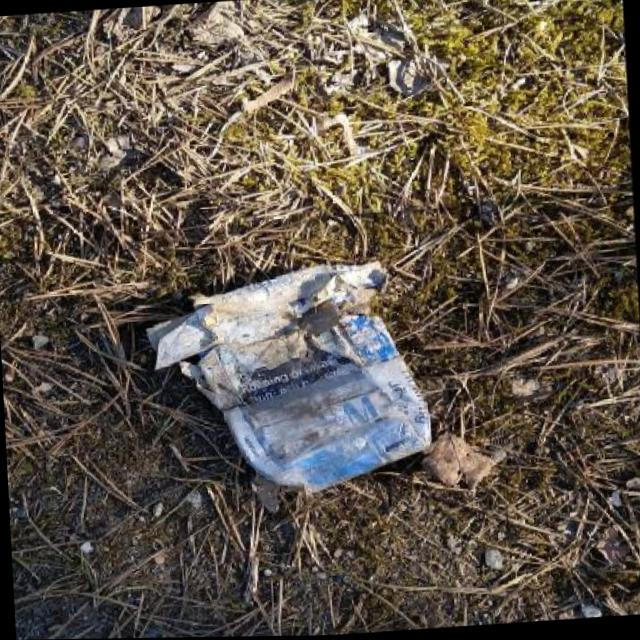cardboard: (142, 256, 440, 503)
